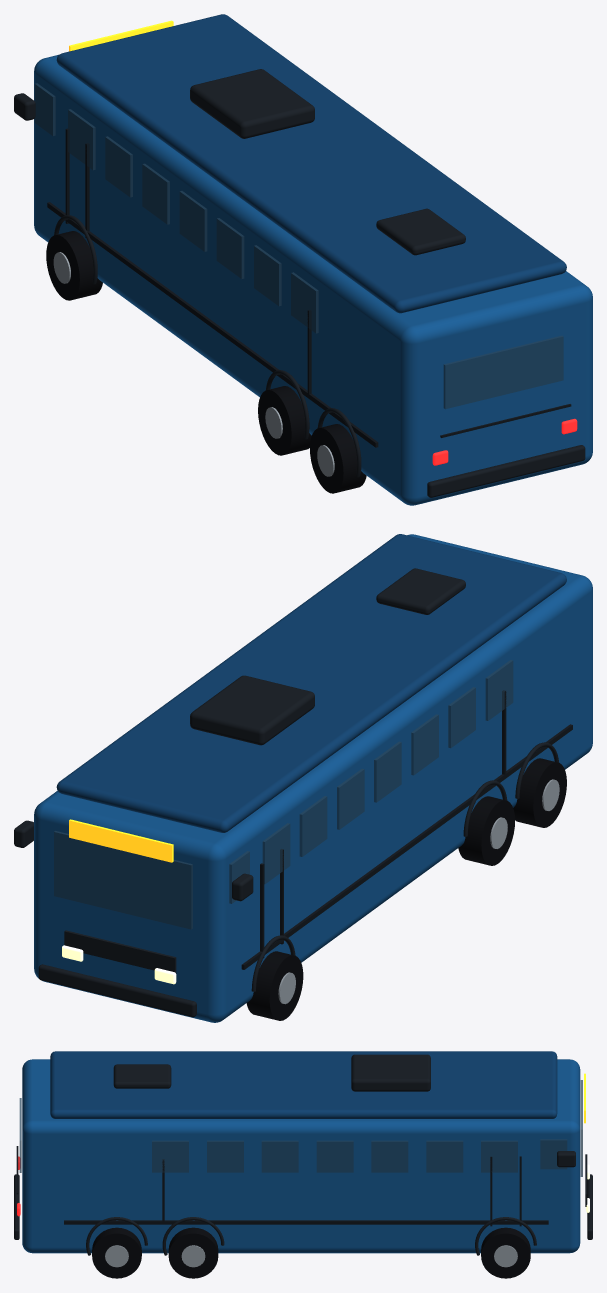
File: bus_near.glb
3 views of the same model, one above another, from view 1: azimuth 30°, elevation 25°; view 2: azimuth 150°, elevation 25°; view 3: azimuth 270°, elevation 25° (orthographic). The views are drawn at different scales.
Parts seen in each view (by area): view 1: bus_near_rounded_long_transit_bus_body_shell, bus_near_slightly_raised_roof_panel_with_hatches, bus_near_roof_hvac_equipment_box, bus_near_rear_window_glass, bus_near_rear_bumper_body_panel, bus_near_rear_roof_service_hatch_panel, bus_near_front_left_wheel_tire, bus_near_rear_left_wheel_tire, bus_near_middle_left_wheel_tire, bus_near_left_lower_body_belt_panel_break, bus_near_left_side_window_glass_4, bus_near_left_side_window_glass_5 (+7 smaller); view 2: bus_near_rounded_long_transit_bus_body_shell, bus_near_slightly_raised_roof_panel_with_hatches, bus_near_front_driver_windshield_glass, bus_near_roof_hvac_equipment_box, bus_near_front_bumper_body_panel, bus_near_rear_roof_service_hatch_panel, bus_near_front_left_wheel_tire, bus_near_middle_left_wheel_tire, bus_near_rear_left_wheel_tire, bus_near_left_lower_body_belt_panel_break, bus_near_front_lower_grille_dark_trim, bus_near_front_route_display_emitter (+7 smaller); view 3: bus_near_rounded_long_transit_bus_body_shell, bus_near_slightly_raised_roof_panel_with_hatches, bus_near_roof_hvac_equipment_box, bus_near_right_lower_body_belt_panel_break, bus_near_middle_right_wheel_tire, bus_near_front_right_wheel_tire, bus_near_rear_right_wheel_tire, bus_near_rear_roof_service_hatch_panel, bus_near_right_side_window_glass_2, bus_near_right_side_window_glass_3, bus_near_right_side_window_glass_4, bus_near_right_side_window_glass_5 (+13 smaller).
Boxes of the visible parts, x1,y1,x2,y2 form: bus_near_rounded_long_transit_bus_body_shell: [34, 54, 592, 505]; bus_near_slightly_raised_roof_panel_with_hatches: [56, 14, 566, 313]; bus_near_roof_hvac_equipment_box: [190, 69, 314, 138]; bus_near_rear_window_glass: [443, 335, 563, 409]; bus_near_rear_bumper_body_panel: [427, 445, 585, 497]; bus_near_rear_roof_service_hatch_panel: [376, 208, 465, 255]; bus_near_front_left_wheel_tire: [46, 231, 102, 300]; bus_near_rear_left_wheel_tire: [310, 424, 366, 493]; bus_near_middle_left_wheel_tire: [258, 386, 311, 455]; bus_near_left_lower_body_belt_panel_break: [47, 202, 378, 447]; bus_near_left_side_window_glass_4: [179, 191, 207, 251]; bus_near_left_side_window_glass_5: [216, 218, 244, 278]; bus_near_rounded_long_transit_bus_body_shell: [34, 534, 592, 1022]; bus_near_slightly_raised_roof_panel_with_hatches: [56, 534, 566, 832]; bus_near_front_driver_windshield_glass: [54, 831, 192, 929]; bus_near_roof_hvac_equipment_box: [190, 675, 314, 745]; bus_near_front_bumper_body_panel: [38, 964, 196, 1017]; bus_near_rear_roof_service_hatch_panel: [376, 568, 465, 614]; bus_near_front_left_wheel_tire: [246, 951, 303, 1020]; bus_near_middle_left_wheel_tire: [458, 796, 514, 865]; bus_near_rear_left_wheel_tire: [513, 758, 566, 827]; bus_near_left_lower_body_belt_panel_break: [241, 724, 572, 969]; bus_near_front_lower_grille_dark_trim: [64, 930, 176, 973]; bus_near_front_route_display_emitter: [69, 819, 173, 862]; bus_near_rounded_long_transit_bus_body_shell: [22, 1059, 580, 1253]; bus_near_slightly_raised_roof_panel_with_hatches: [50, 1051, 557, 1118]; bus_near_roof_hvac_equipment_box: [351, 1054, 430, 1091]; bus_near_right_lower_body_belt_panel_break: [64, 1220, 548, 1224]; bus_near_middle_right_wheel_tire: [168, 1227, 218, 1278]; bus_near_front_right_wheel_tire: [481, 1227, 530, 1278]; bus_near_rear_right_wheel_tire: [92, 1227, 141, 1278]; bus_near_rear_roof_service_hatch_panel: [113, 1064, 171, 1088]; bus_near_right_side_window_glass_2: [426, 1140, 463, 1172]; bus_near_right_side_window_glass_3: [371, 1140, 408, 1172]; bus_near_right_side_window_glass_4: [316, 1140, 353, 1172]; bus_near_right_side_window_glass_5: [261, 1140, 298, 1172].
Size of the model in its own units: 3.06 by 2.97 by 9.08.
